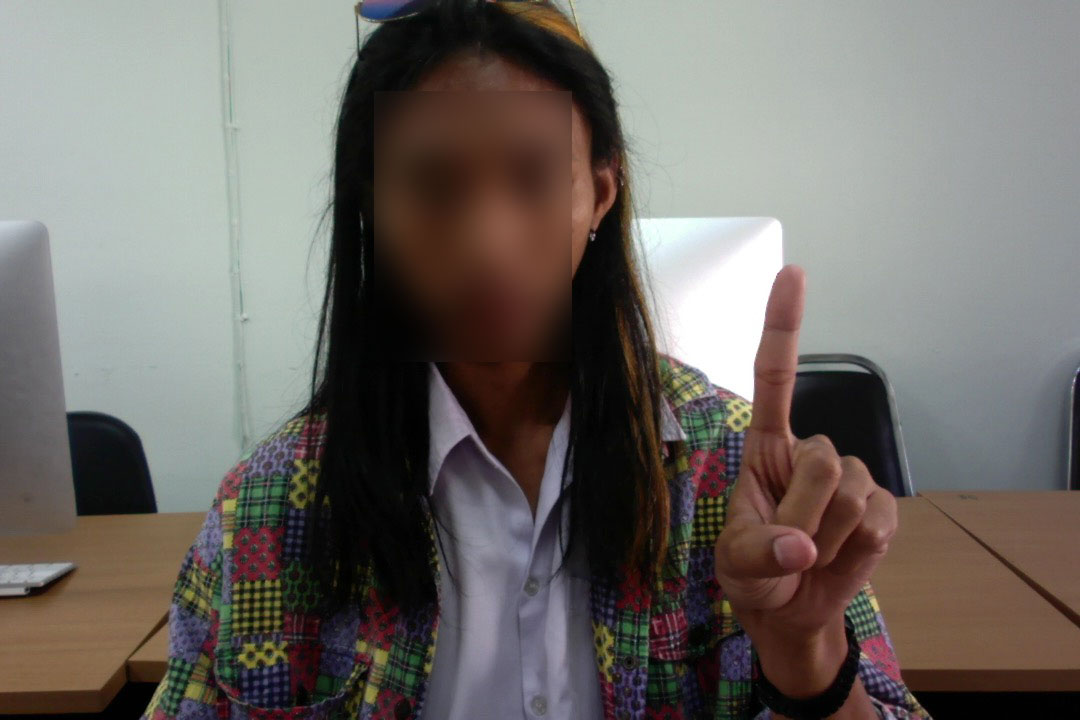dor: (709, 252, 907, 656)
